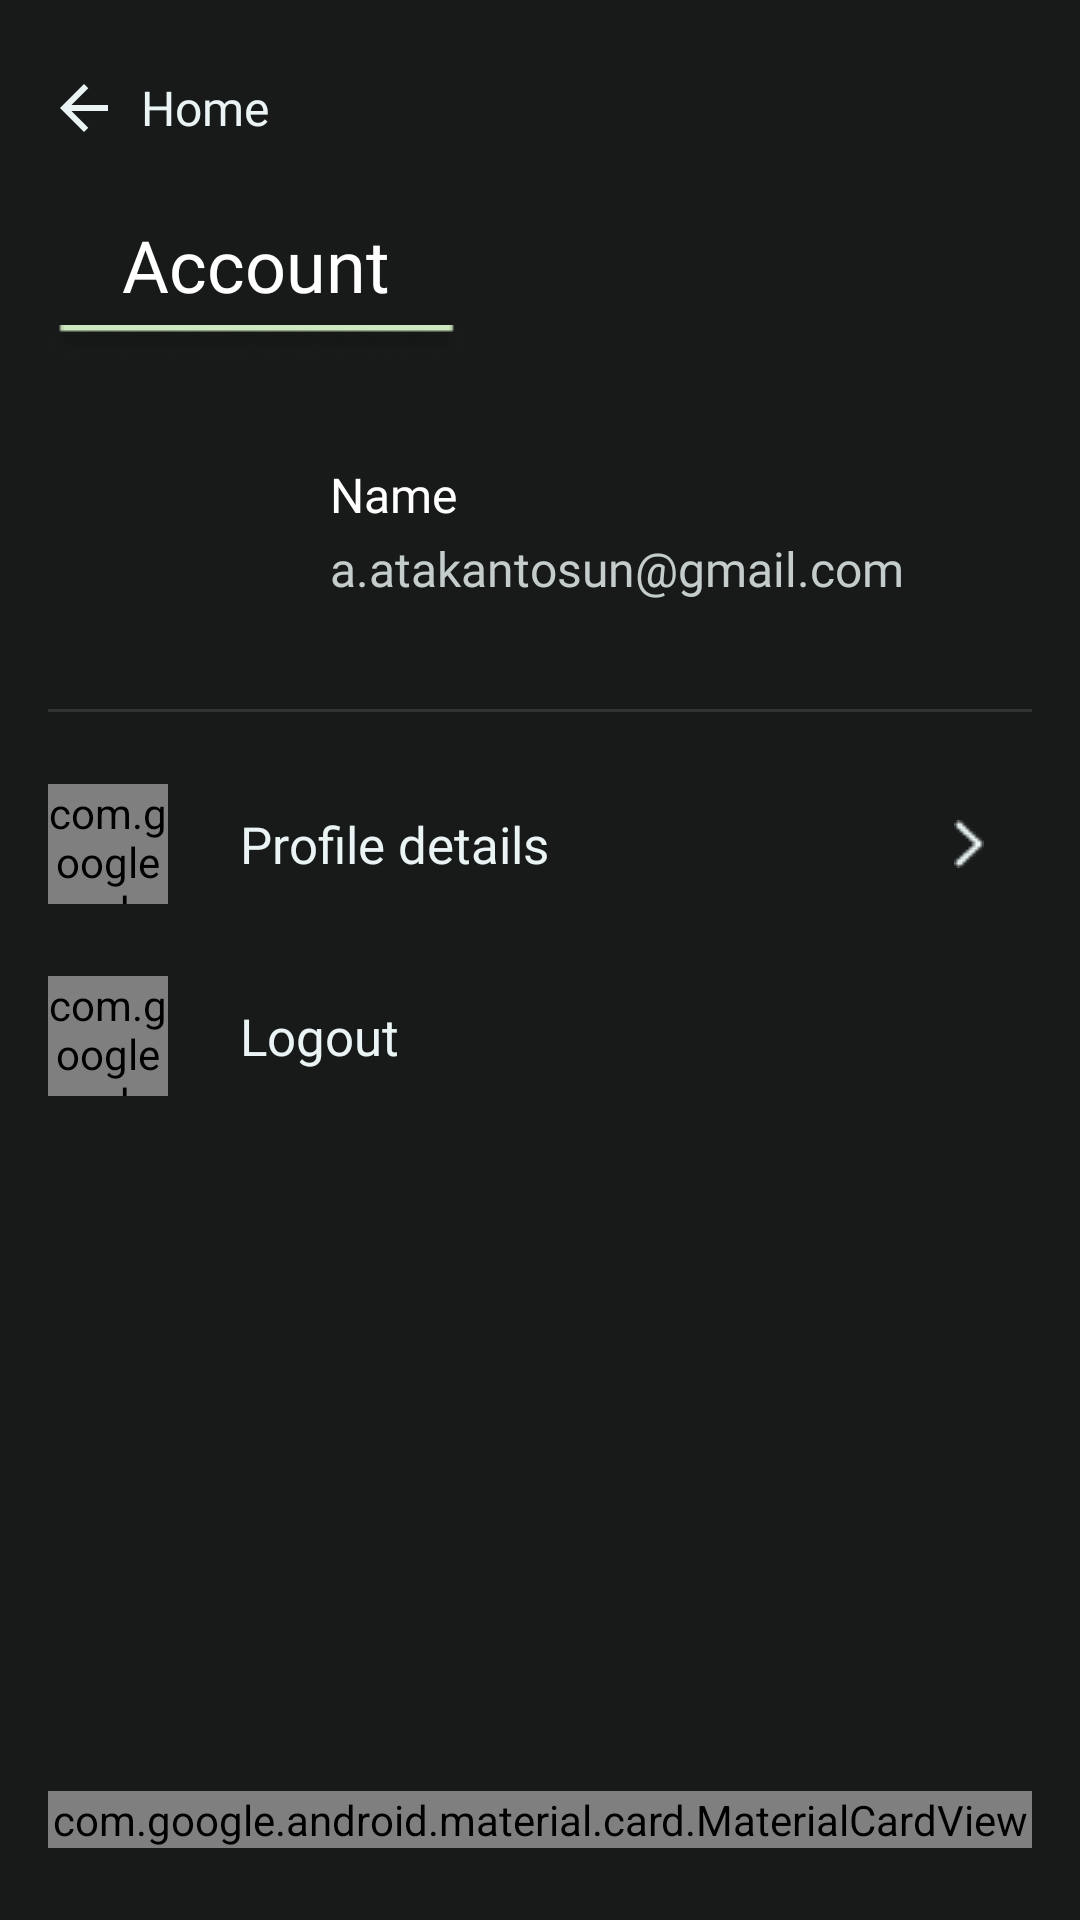

Point at icon controls on the screen. Image size 1080x1920, points as [x,y].
back arrow: [84,108]
library arrow right: [969,844]
